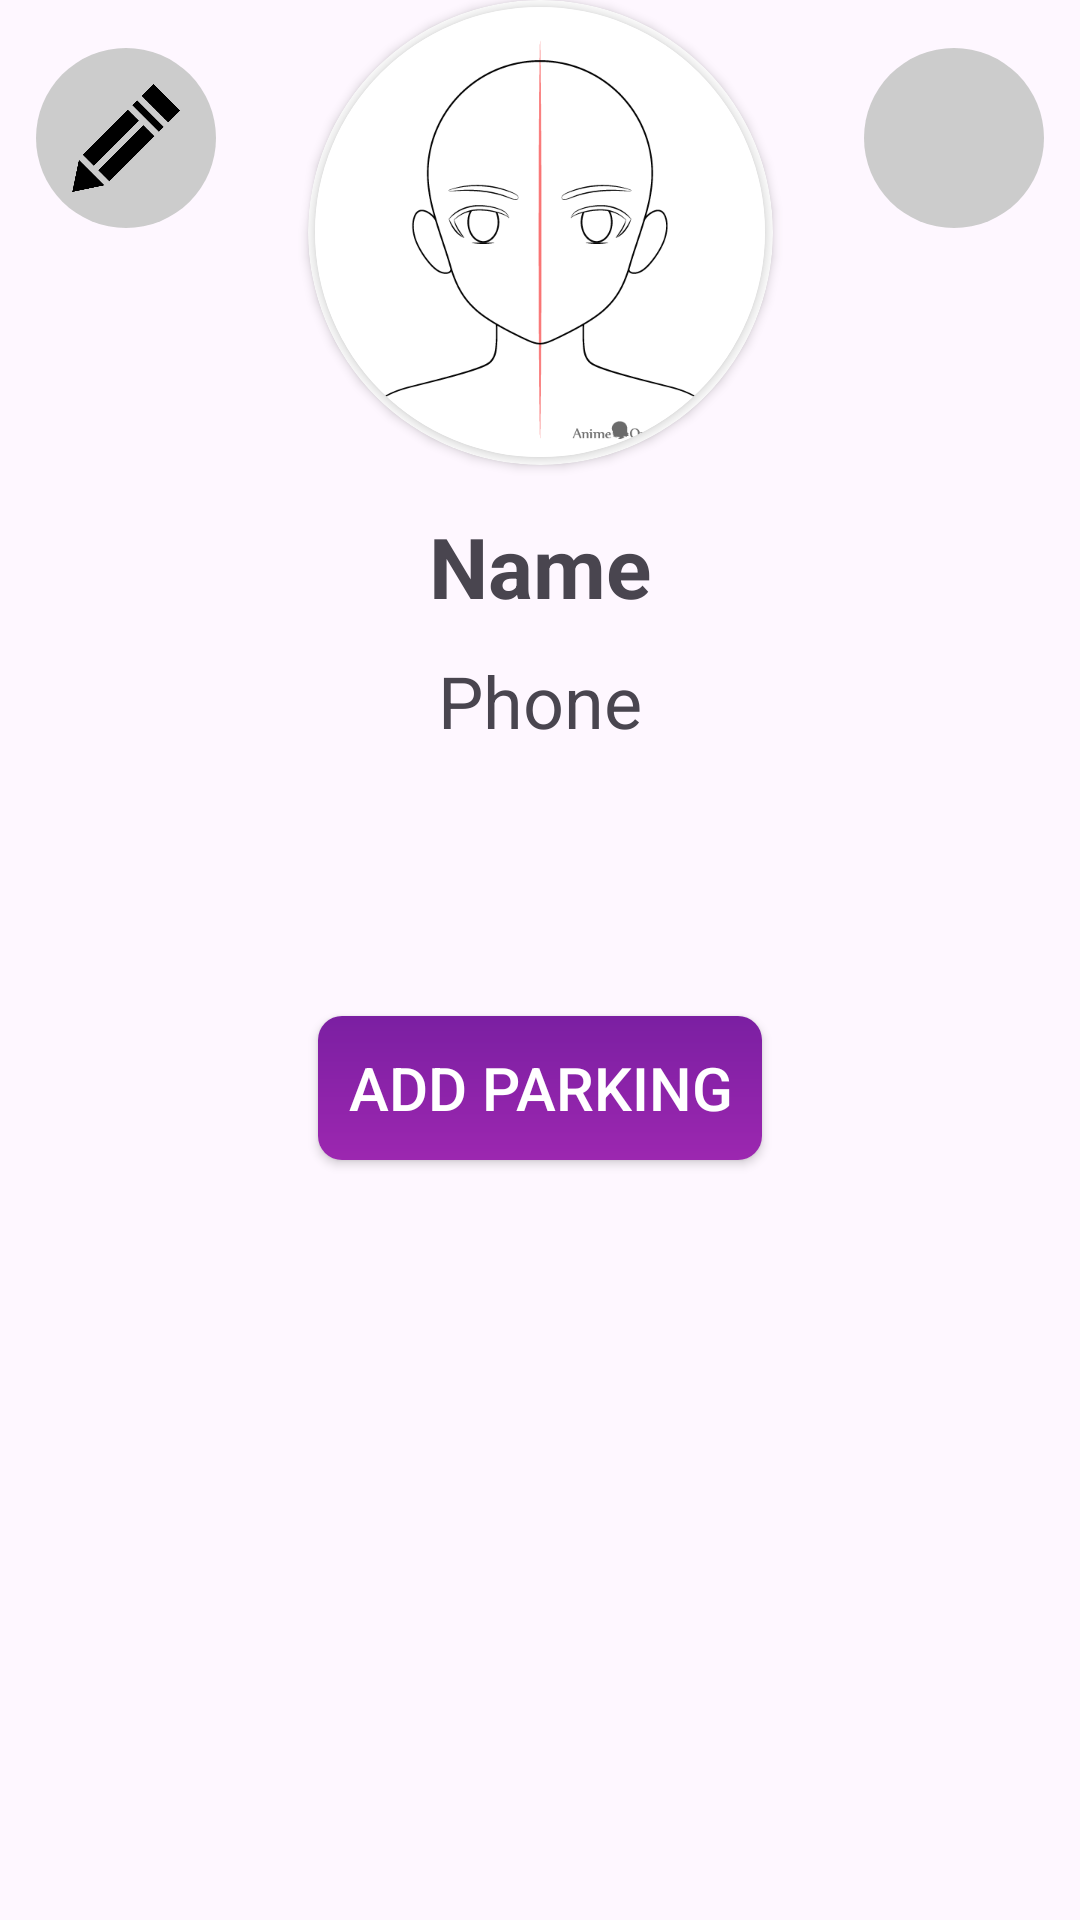

Named icons in this screenshot (1080*1920) and their bounding boxes, [x1, y1, x2, y2]:
edit: [36, 48, 216, 228]
